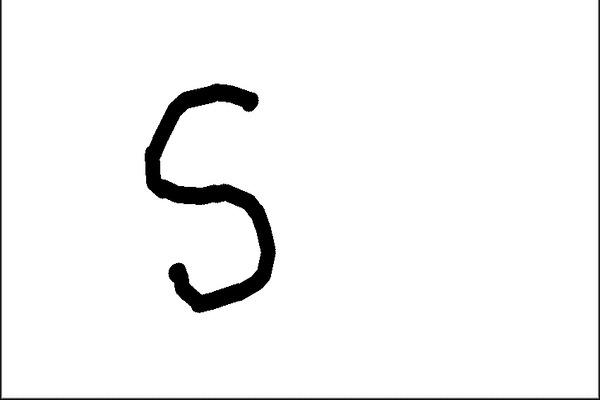S: (141, 79, 280, 315)
